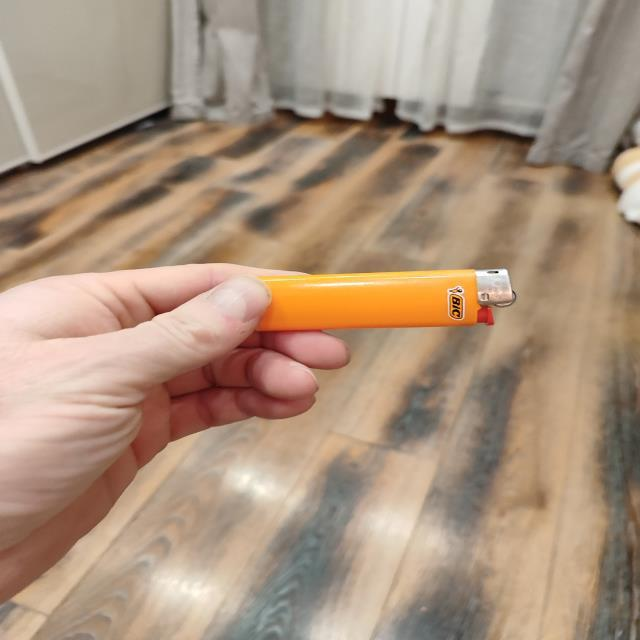lighter: (257, 269, 515, 331)
